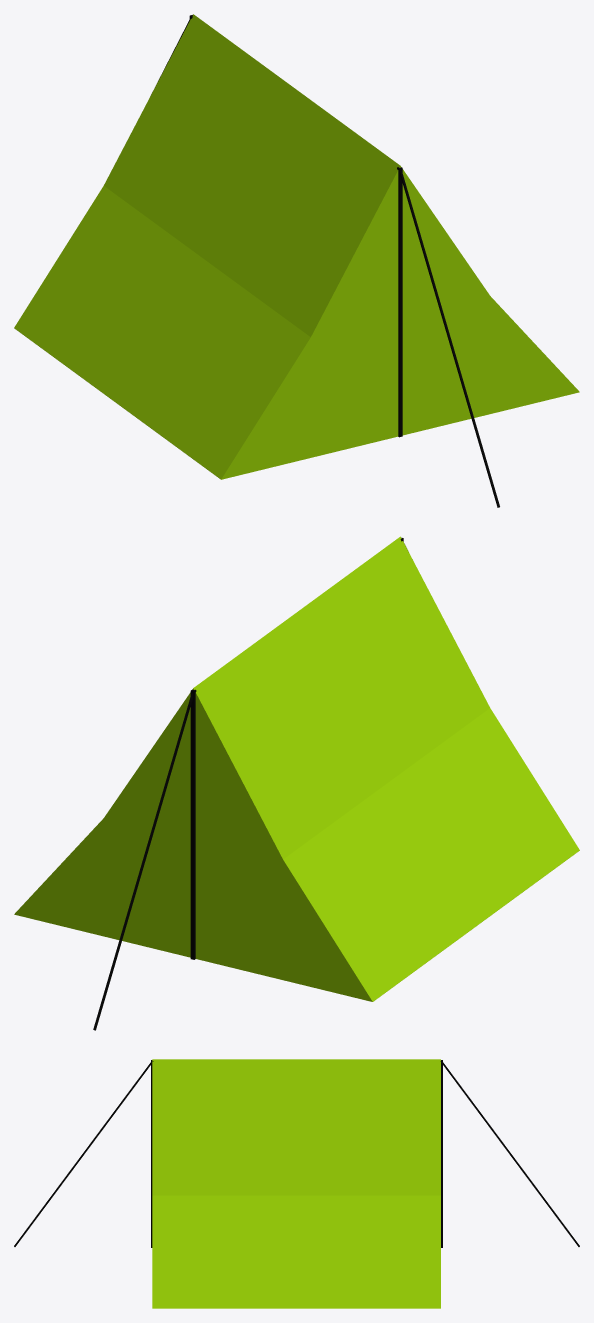
Rendered from tent1.fbx.
3 renders of one model, top to bottom at view 1: azimuth 30°, elevation 25°; view 2: azimuth 150°, elevation 25°; view 3: azimuth 270°, elevation 25°, orthographic. The views are drawn at different scales.
Parts seen in each view (by area): view 1: Cube, Cube.002, Cube.004; view 2: Cube, Cube.001, Cube.003; view 3: Cube, Cube.004, Cube.003, Cube.002, Cube.001.
Part boxes in pixels (x1,y1,x2,y2): Cube: (14,14,579,479); Cube.002: (397,167,402,437); Cube.004: (400,170,499,507); Cube: (14,536,579,1001); Cube.001: (190,689,196,959); Cube.003: (93,693,193,1030); Cube: (152,1059,440,1308); Cube.004: (14,1062,150,1246); Cube.003: (443,1062,579,1246); Cube.002: (151,1060,153,1247); Cube.001: (440,1060,442,1247).
Size of the model in its own units: 2 by 1.44 by 3.92.
